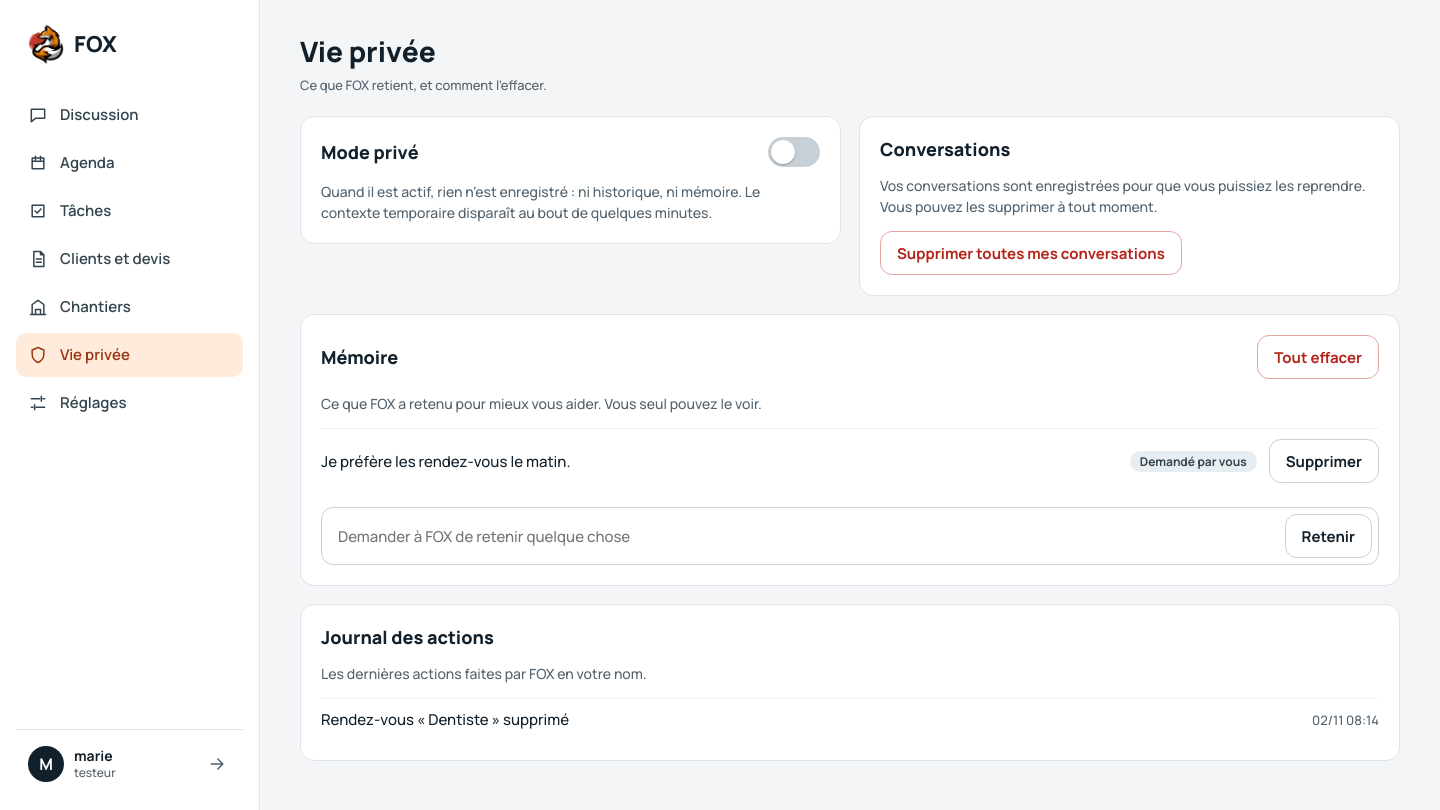
Vie privée › ajoute puis supprime un élément de mémoire
Type "Mon client principal est Nkolo" into the field labelled "Ajouter à la mémoire" at (805, 536), box [336,514,1275,558]
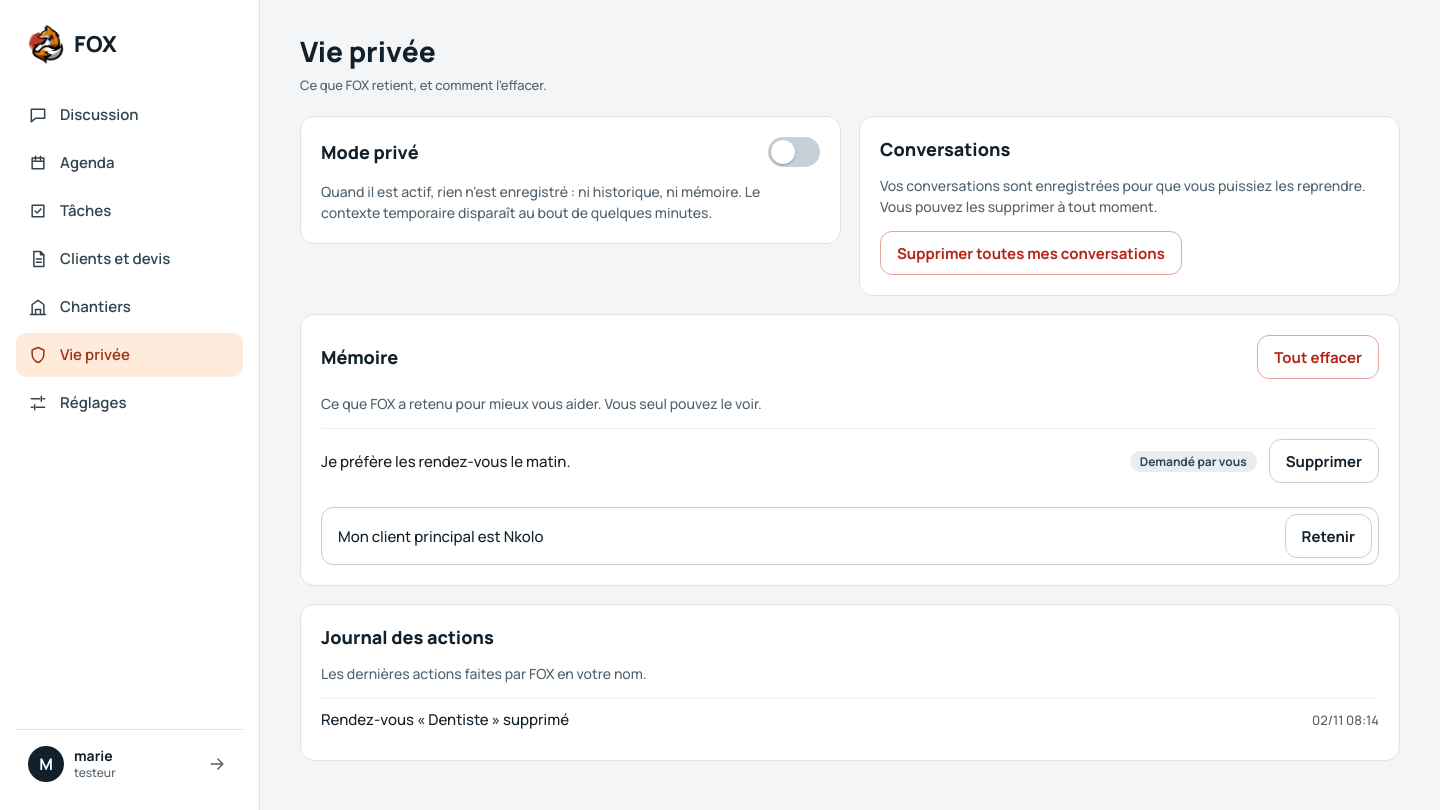
Click the button "Retenir" at (1328, 536), box [1285,514,1372,558]
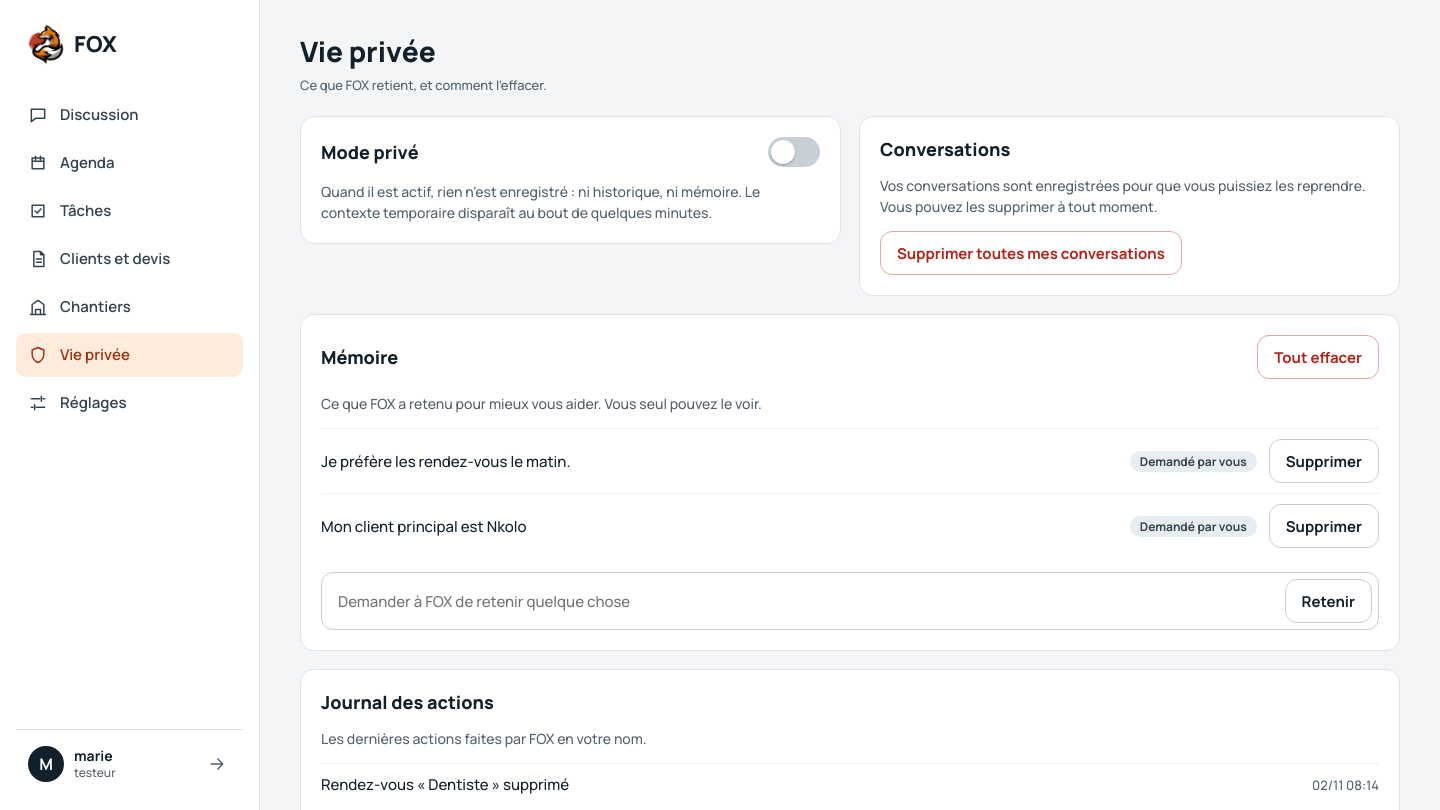
Check: the text "Mon client principal est Nkolo" is shown, box [321,516,526,536]
Click the button with aria-label "Supprimer : Je préfère" at (1324, 461), box [1269,439,1379,483]
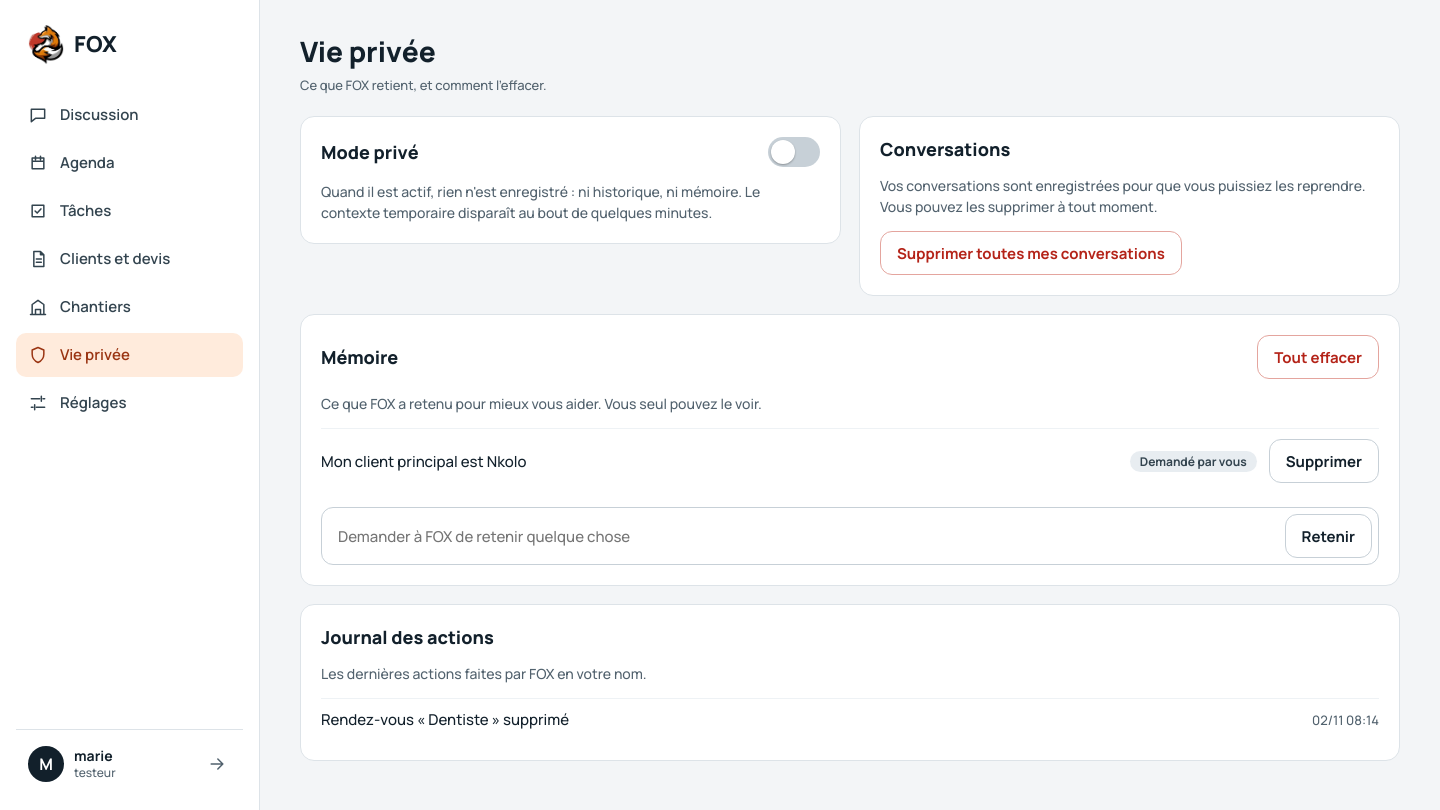
Check: the text "Je préfère les rendez-vous le matin." is gone
